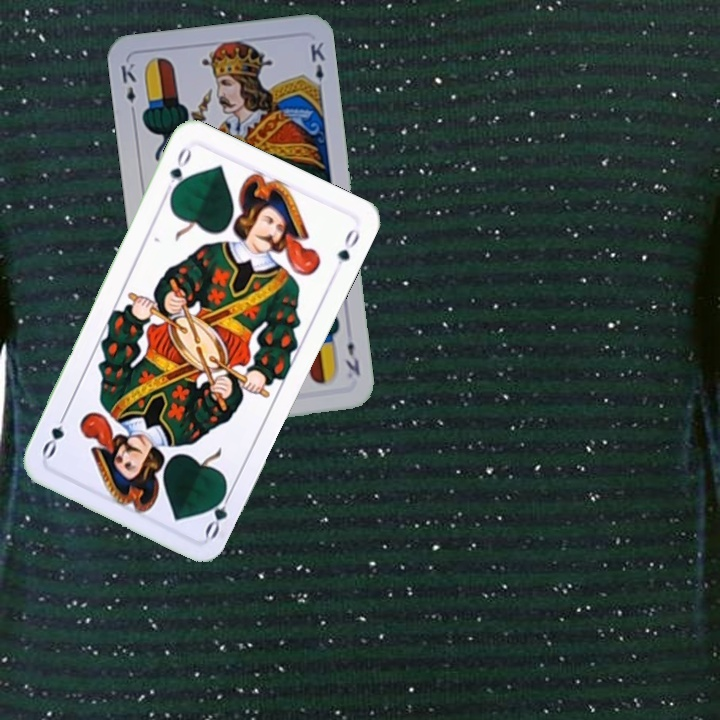EK: (116, 59, 139, 119), (341, 337, 363, 378)
GO: (201, 482, 236, 541), (160, 143, 195, 200)
